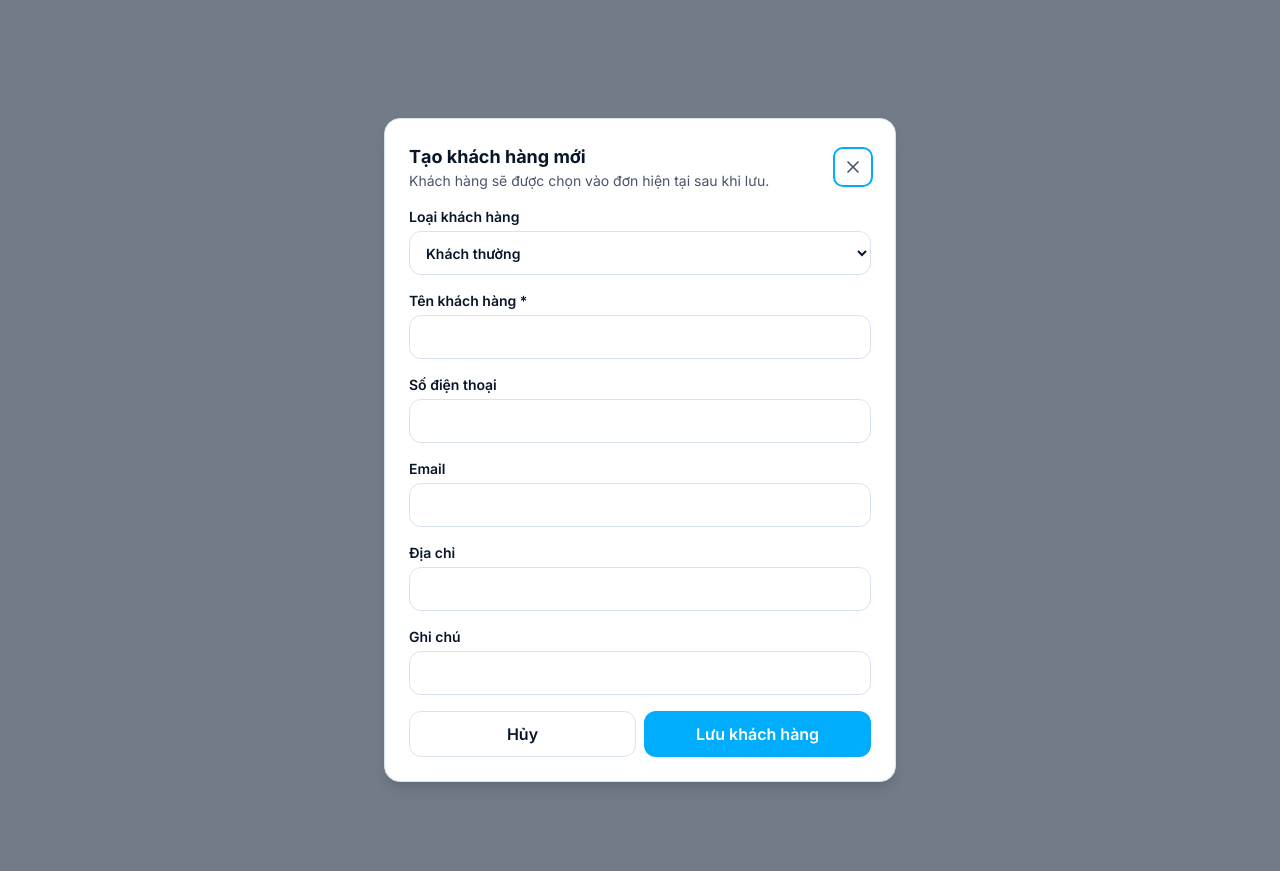
it: CreateCustomerDialog › validates VAT before creating a customer (0312345678, bad-email)
Type "0909123456" into the field labelled "Số điện thoại" at (640, 421), box [409, 399, 871, 443]
Select "Khách xuất VAT" in the dropdown at (640, 253), box [409, 231, 871, 275]
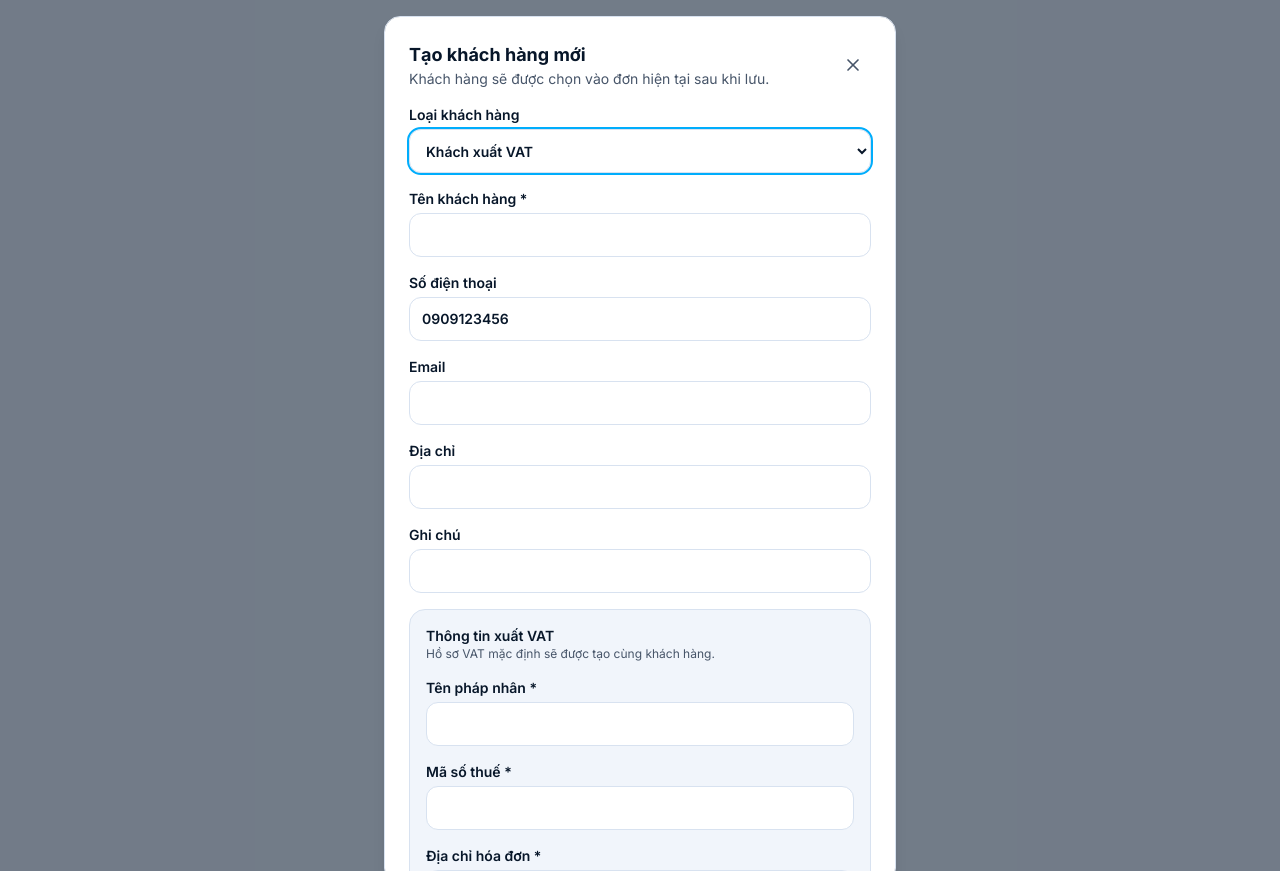
Type "Cong ty A" into the field labelled "Tên khách hàng" at (640, 235), box [409, 213, 871, 257]
Type "Cong ty A" into the field labelled "Tên pháp nhân" at (640, 724), box [426, 702, 854, 746]
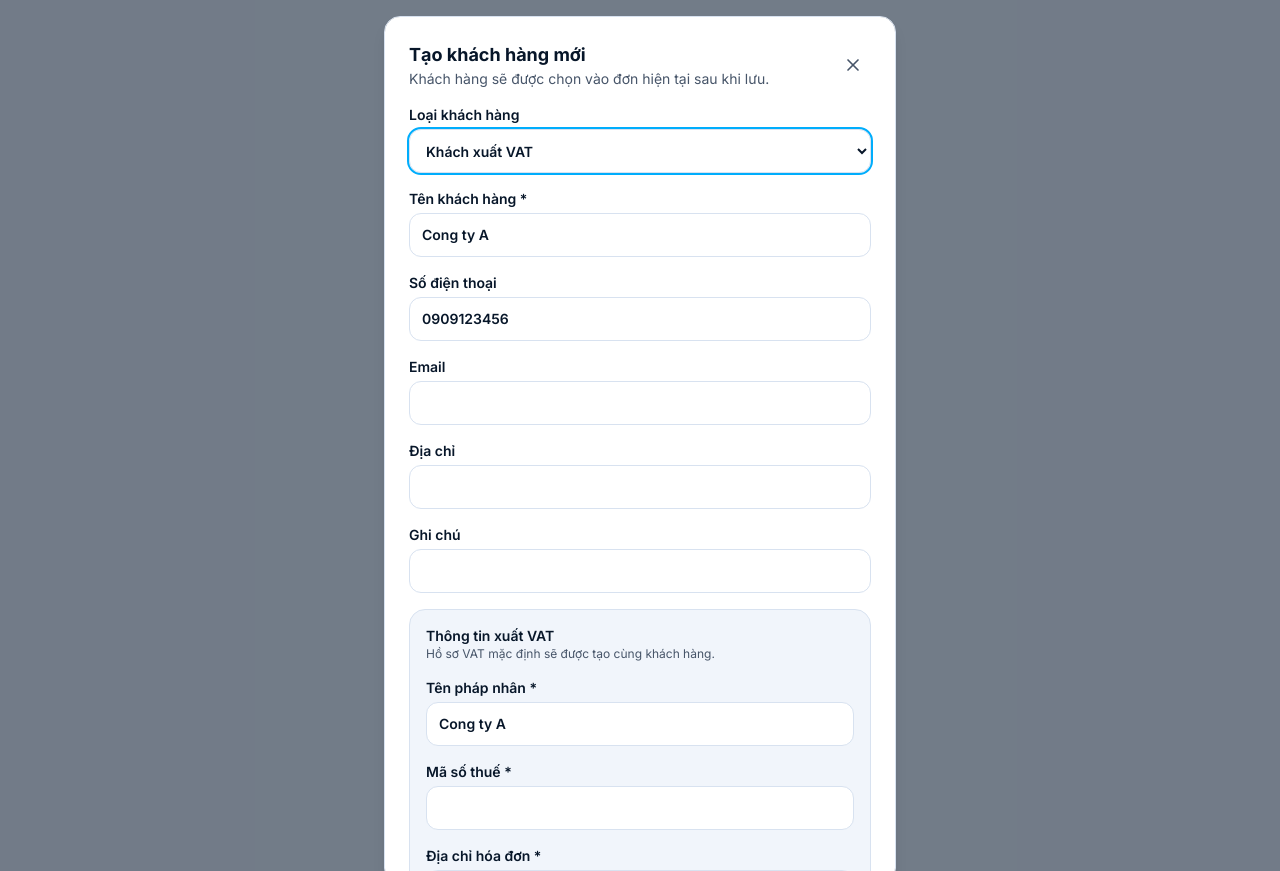
Type "0312345678" into the field labelled "Mã số thuế" at (640, 808), box [426, 786, 854, 830]
(page scrolled)
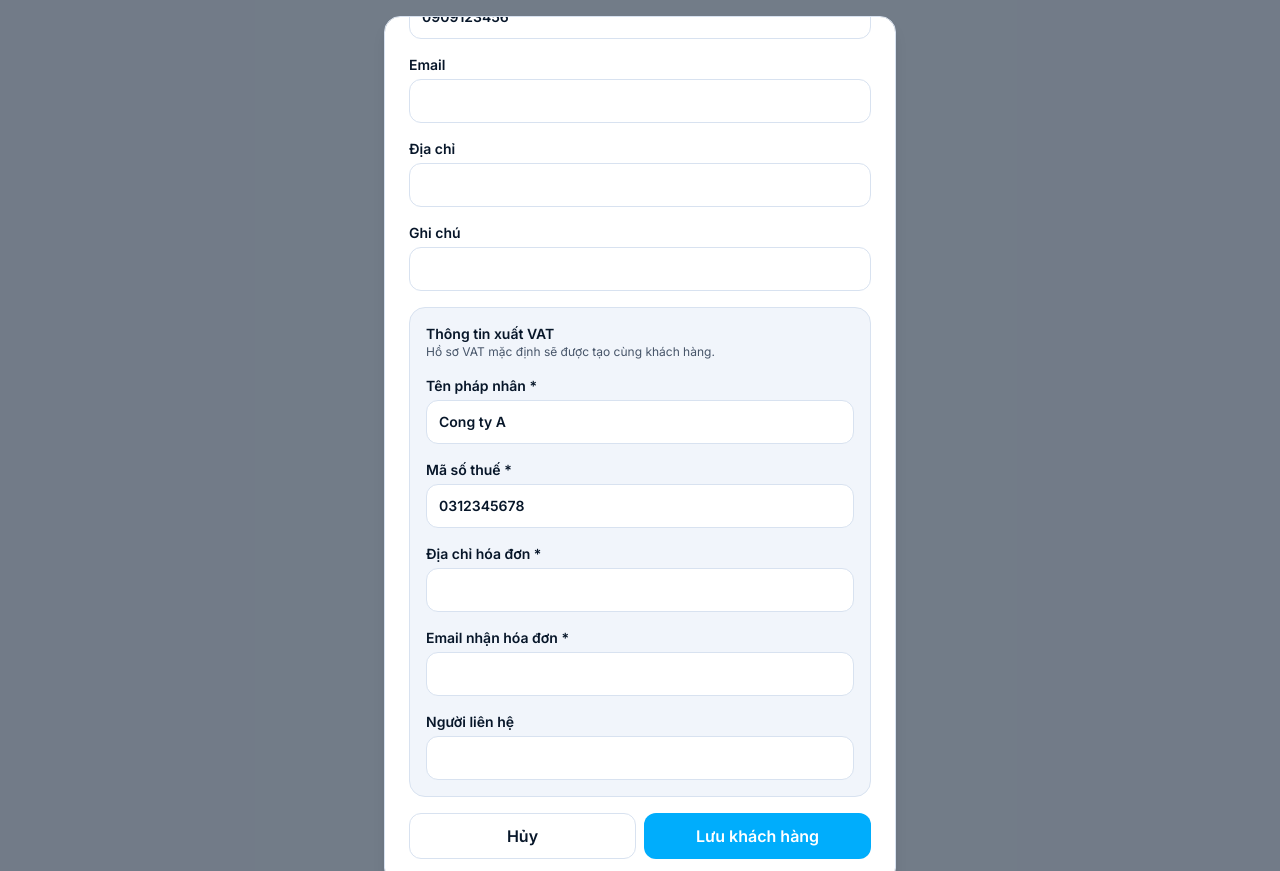
Type "1 Nguyen Hue" into the field labelled "Địa chỉ hóa đơn" at (640, 590), box [426, 568, 854, 612]
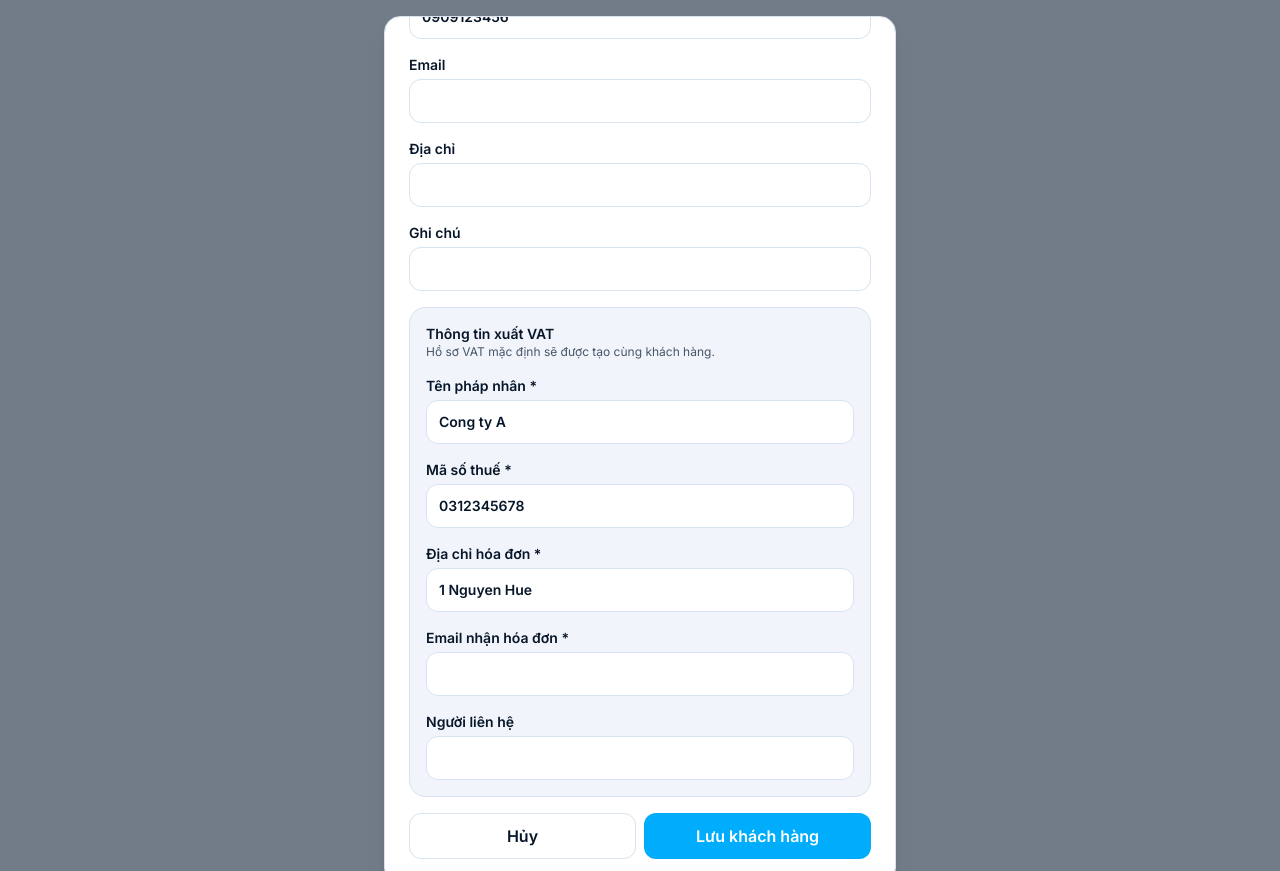
Type "bad-email" into the field labelled "Email nhận hóa đơn" at (640, 674), box [426, 652, 854, 696]
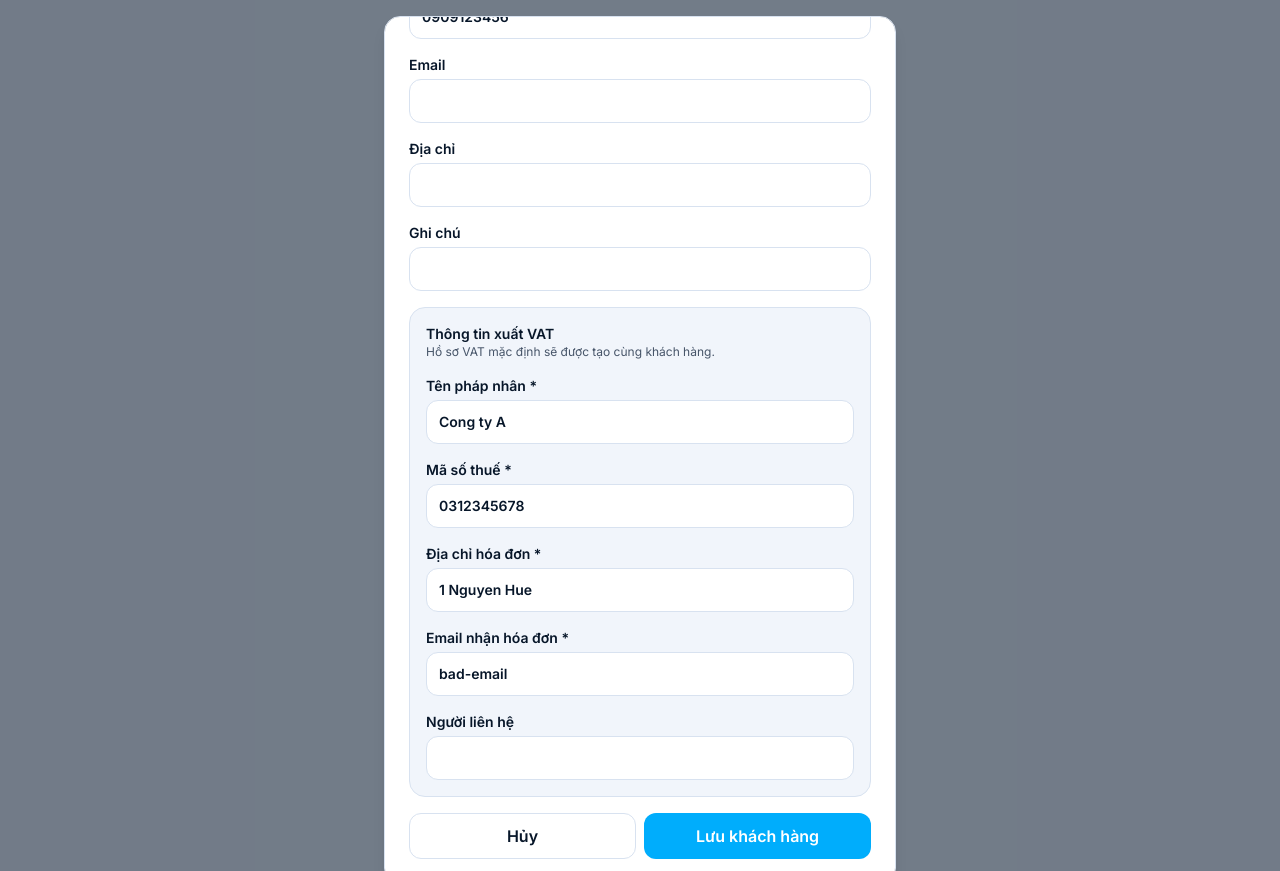
Click the button "Lưu khách hàng" at (758, 836), box [644, 813, 871, 859]
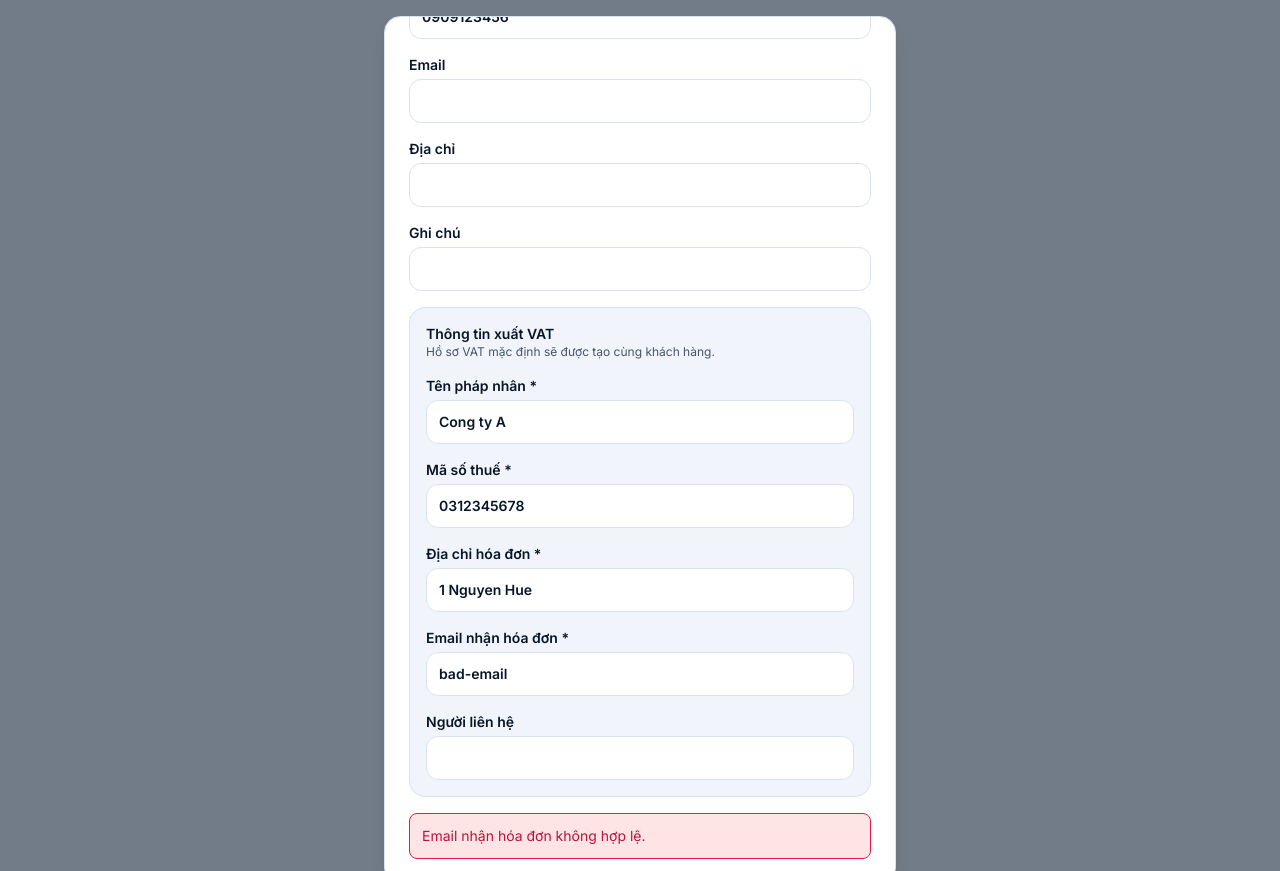
Expected: the message reads "Email nhận hóa đơn không hợp lệ.", [422, 827, 646, 844]
